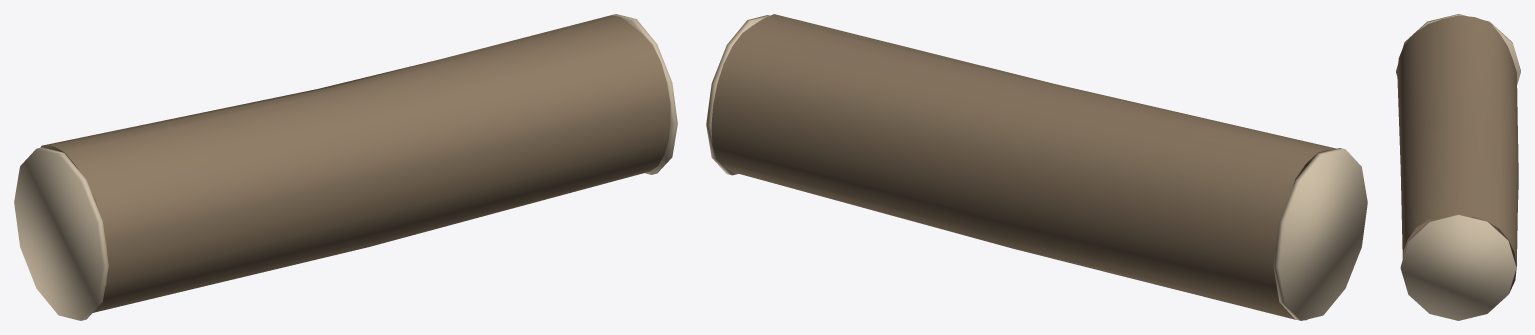
The model's file is rail_log_2.glb.
3 renders of one model, left to right at view 1: azimuth 30°, elevation 25°; view 2: azimuth 150°, elevation 25°; view 3: azimuth 270°, elevation 25°, orthographic. The views are drawn at different scales.
Parts seen in each view (by area): view 1: g_bark, g_endgrain; view 2: g_bark, g_endgrain; view 3: g_bark, g_endgrain.
Part boxes in pixels (x1=…): g_bark: x1=40, y1=15, x2=670, y2=312; g_endgrain: x1=14, y1=14, x2=677, y2=320; g_bark: x1=711, y1=14, x2=1336, y2=320; g_endgrain: x1=706, y1=15, x2=1367, y2=320; g_bark: x1=1397, y1=15, x2=1518, y2=293; g_endgrain: x1=1396, y1=14, x2=1520, y2=320.
Size of the model in its own units: 1.02 by 0.2731 by 0.272.
